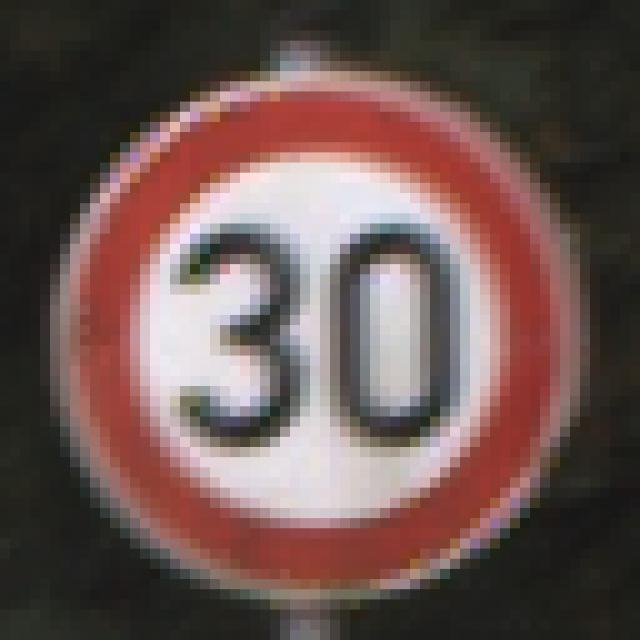Speed Limit -30-: (45, 46, 575, 574)
